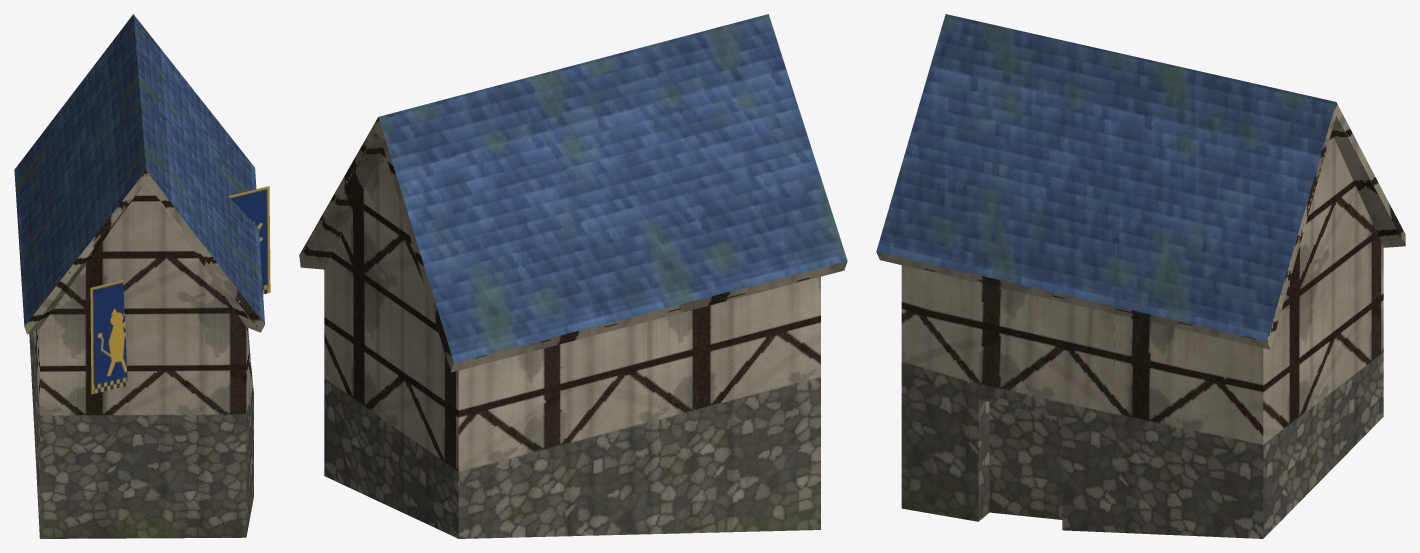
File: house_02_card_lod1.glb
The picture shows the model from 3 angles, left to right: view 1: azimuth 30°, elevation 25°; view 2: azimuth 150°, elevation 25°; view 3: azimuth 270°, elevation 25°; orthographic projection. The views are drawn at different scales.
Visible parts, largest first — view 1: house_02_game_card; view 2: house_02_game_card; view 3: house_02_game_card.
Boxes of the visible parts, x1=… form: house_02_game_card: x1=14, y1=14, x2=270, y2=538; house_02_game_card: x1=299, y1=14, x2=847, y2=538; house_02_game_card: x1=876, y1=14, x2=1405, y2=538.
Size of the model in its own units: 9.3 by 9.89 by 10.62.
1 material, 1 textured.
